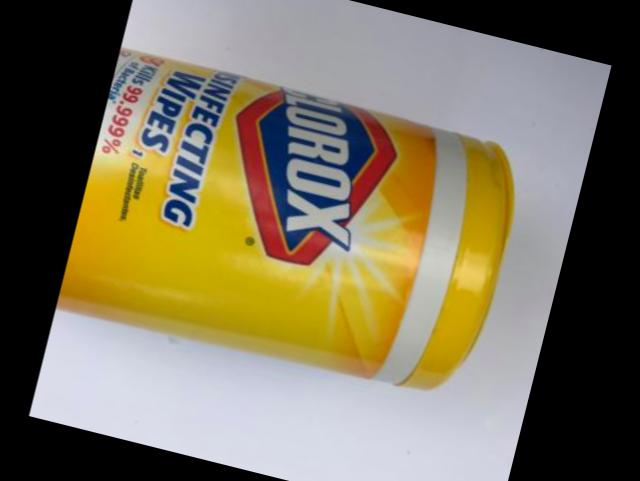plastic: (57, 49, 509, 388)
